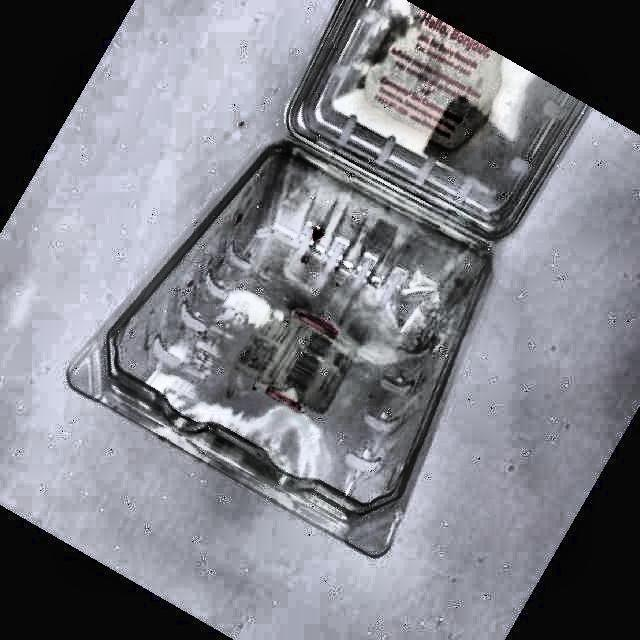plastic: (68, 0, 586, 556)
